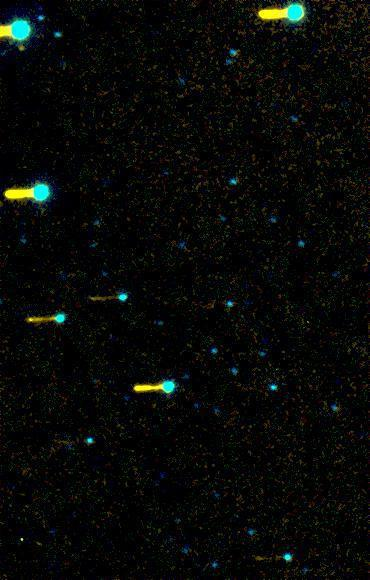star: (0, 32, 30, 62)
